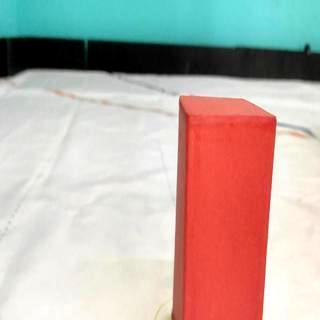redbox: (170, 93, 276, 320)
